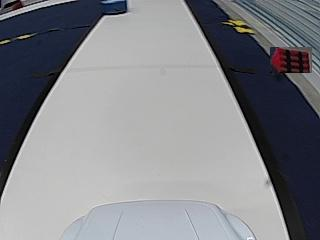prop: (102, 0, 127, 15)
